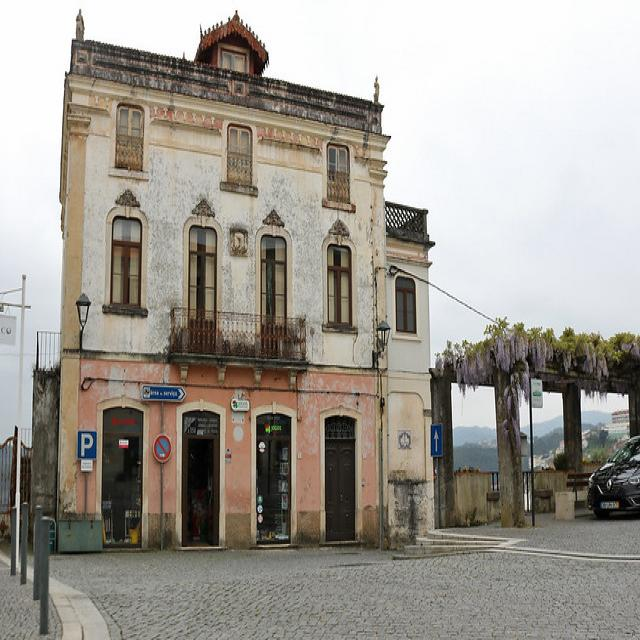Normal_building: (51, 15, 438, 556)
